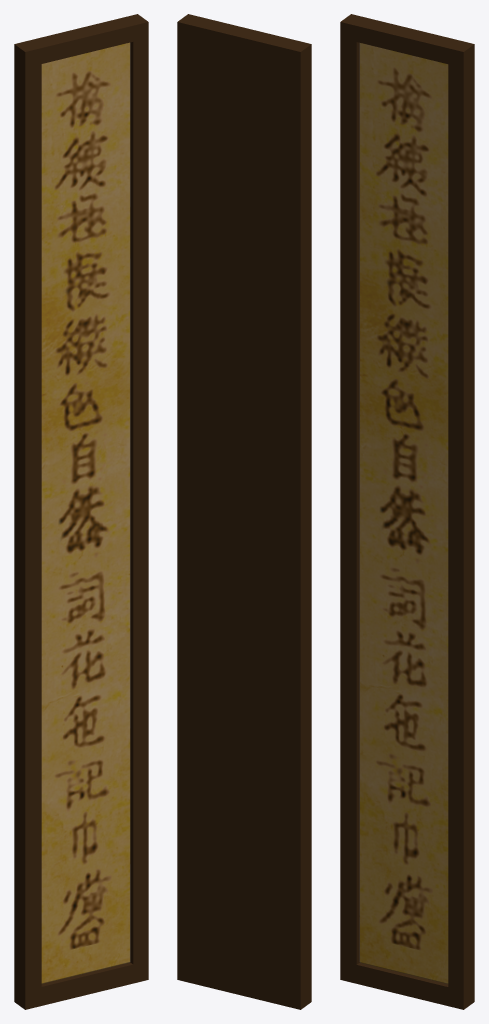
File: CaligraphyPane_v004(UV_Unwrapped).fbx
3 renders of one model, left to right at view 1: azimuth 30°, elevation 25°; view 2: azimuth 150°, elevation 25°; view 3: azimuth 330°, elevation 25°, orthographic.
Parts seen in each view (by area): view 1: CaligraphyPane; view 2: CaligraphyPane; view 3: CaligraphyPane.
Part boxes in pixels (x1,y1,x2,y2): CaligraphyPane: [14, 14, 148, 1009]; CaligraphyPane: [177, 14, 311, 1009]; CaligraphyPane: [340, 14, 474, 1009].
Size of the model in its own units: 26.97 by 200 by 4.12.
